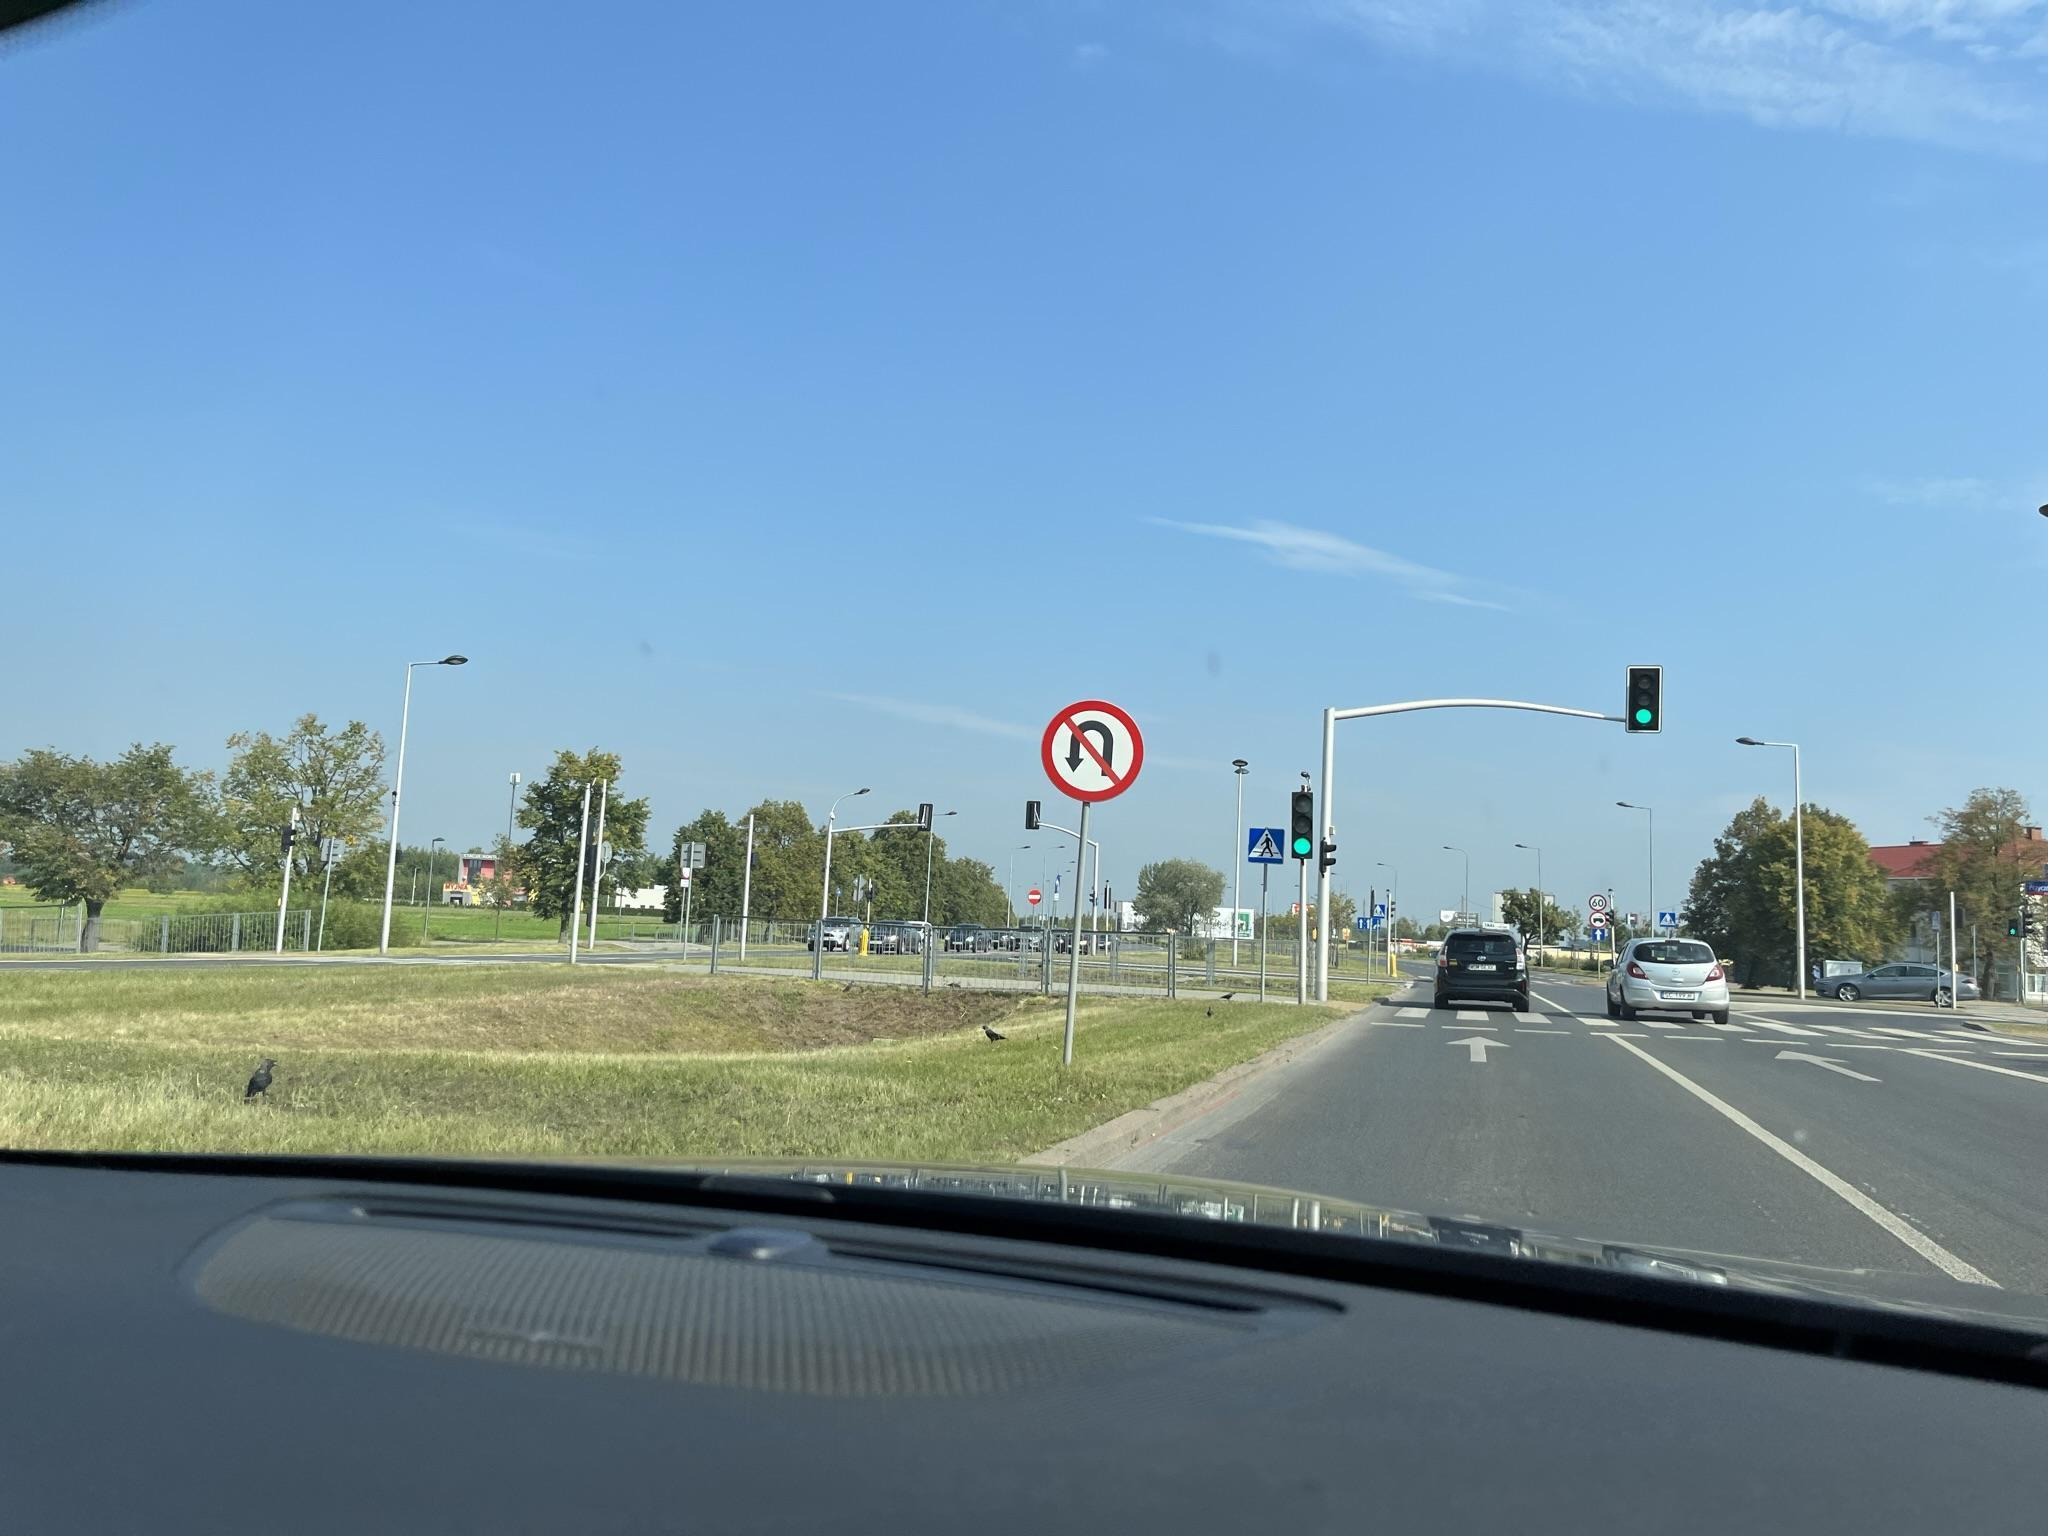information: (1248, 826, 1285, 865), (1659, 912, 1677, 928), (1371, 904, 1387, 918), (1932, 910, 1942, 931), (1592, 928, 1606, 941), (1625, 912, 1638, 926)
mandatory: (1055, 873, 1059, 892)
other: (1358, 916, 1382, 929), (682, 879, 689, 886), (1055, 895, 1059, 900)
prohibitory: (1040, 697, 1145, 803), (1588, 894, 1608, 912), (1588, 912, 1608, 929), (1027, 889, 1042, 905), (682, 866, 690, 879)
